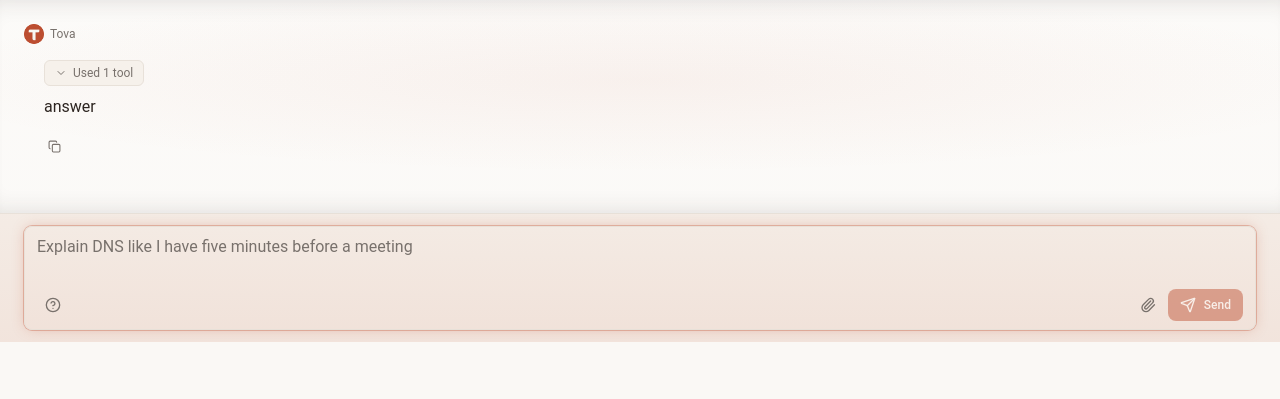
it: Tool chip (issue #33) › reveals the result detail on click
This screenshot has width=1280, height=399.
Click the button with test id "tool-summary-toggle".
click(94, 73)  # box [44,60,144,86]
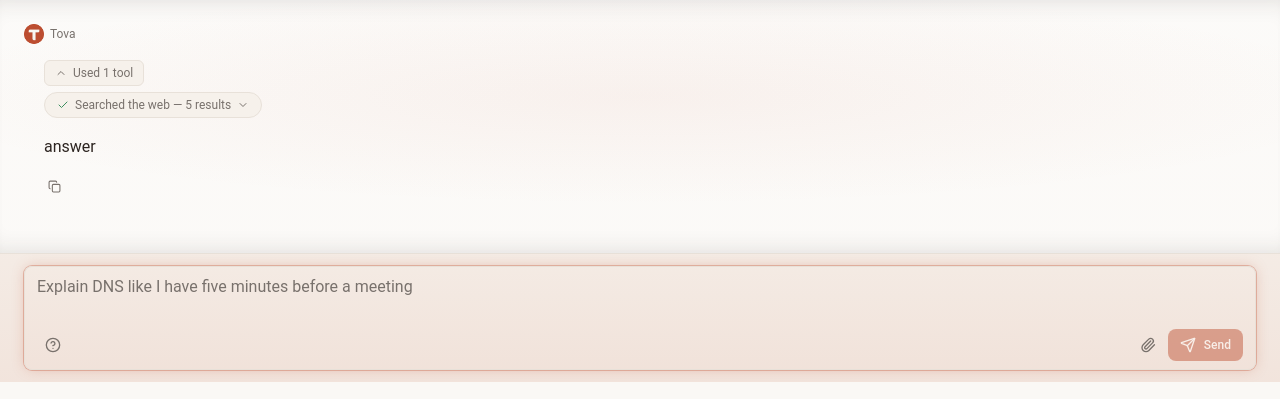
Click the button "Searched the web — 5 results".
click(153, 105)  # box [44,92,262,118]
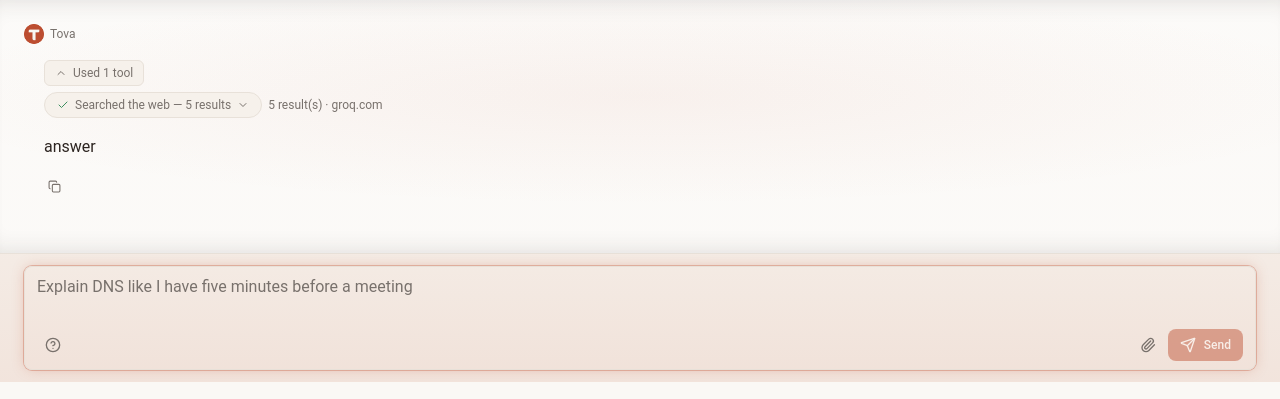
expect the text with test id "tool-detail" reads "5 result(s) · groq.com": met, box [268,98,383,112]
expect the text with test id "tool-detail" shows "groq.com": met, box [268,98,383,112]
